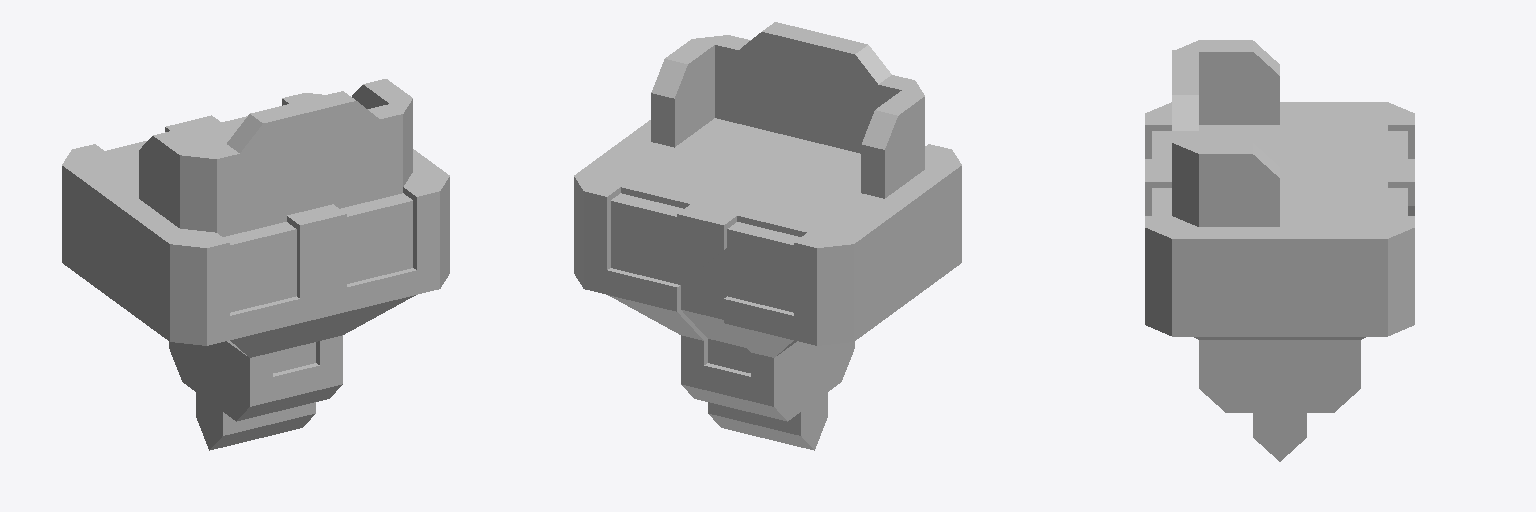
File: torso_reinforced.obj
3 renders of one model, left to right at view 1: azimuth 30°, elevation 25°; view 2: azimuth 150°, elevation 25°; view 3: azimuth 270°, elevation 25°, orthographic.
Visible parts, largest first — view 1: TORSO_REINFORCED_Cube.003; view 2: TORSO_REINFORCED_Cube.003; view 3: TORSO_REINFORCED_Cube.003.
Boxes of the visible parts, box(x1,y1,x2,y2) form: TORSO_REINFORCED_Cube.003: box(62, 79, 449, 450); TORSO_REINFORCED_Cube.003: box(574, 22, 961, 450); TORSO_REINFORCED_Cube.003: box(1145, 40, 1414, 461).
Size of the model in its own units: 0.75 by 0.9375 by 0.625.